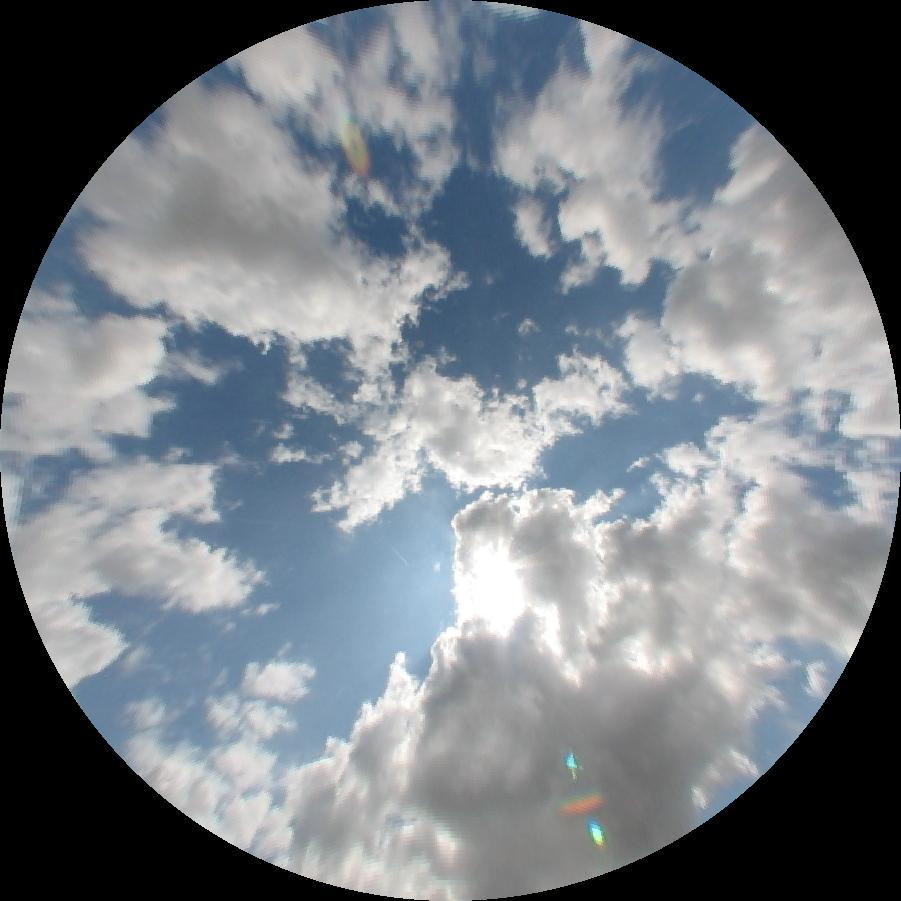contrail young: (387, 543, 410, 567)
